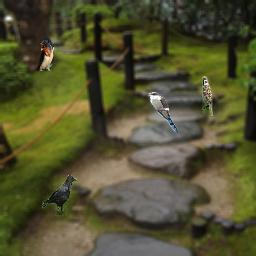Crow: (42, 175, 77, 215)
Cuckoo: (147, 92, 178, 132)
Sparrow: (202, 76, 213, 116)
Swallow: (37, 38, 54, 71)
